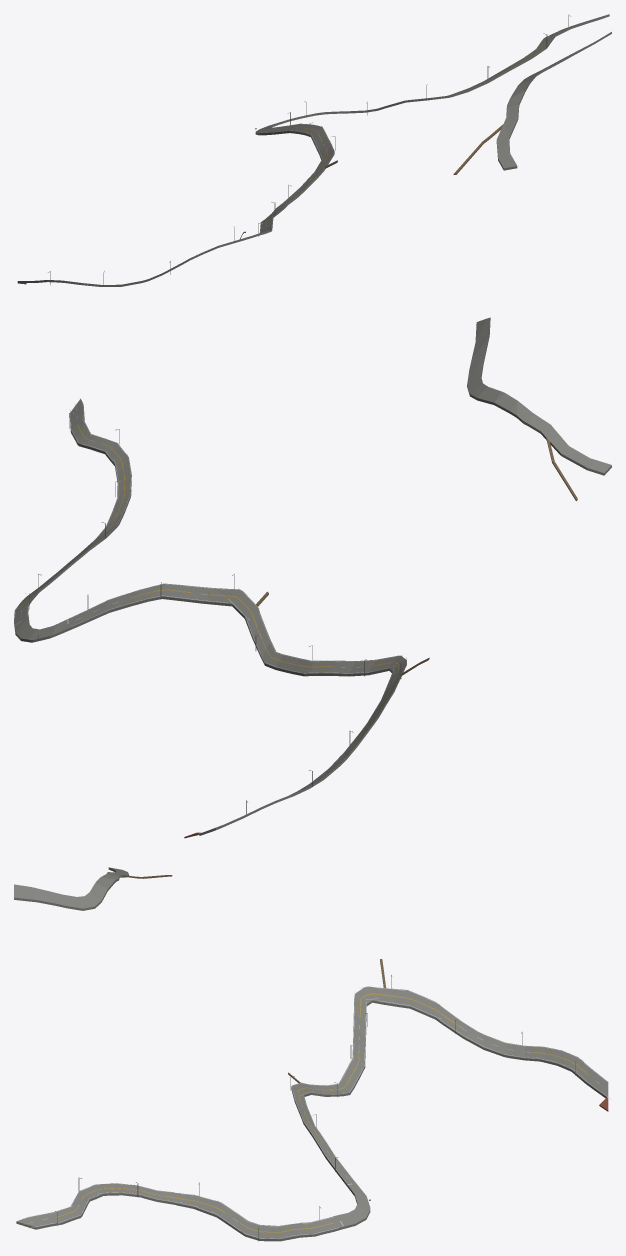
3 views of the same model, one above another, from view 1: azimuth 90°, elevation 25°; view 2: azimuth 150°, elevation 25°; view 3: azimuth 270°, elevation 25° (orthographic). The views are drawn at different scales.
Bounding box in the file's own units: 295 × 130 × 293.
